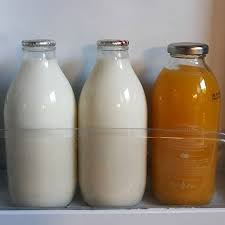milk: (78, 30, 146, 208), (9, 38, 74, 211)
